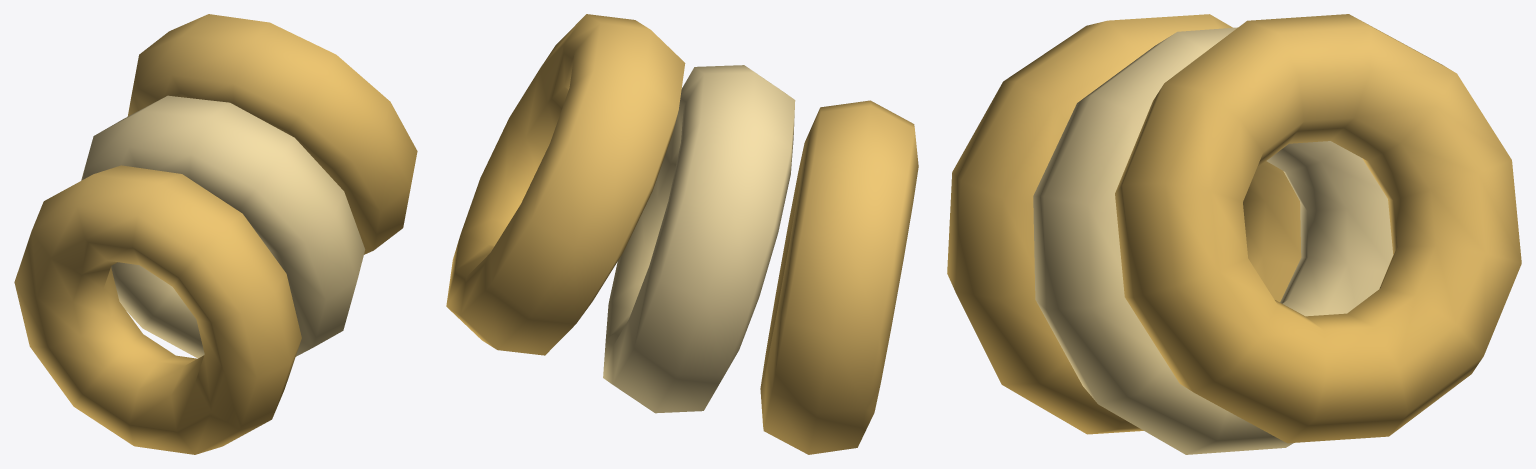
Rendered from Earring_8.fbx.
The picture shows the model from 3 angles, left to right: view 1: azimuth 30°, elevation 25°; view 2: azimuth 150°, elevation 25°; view 3: azimuth 270°, elevation 25°; orthographic projection. The views are drawn at different scales.
Parts seen in each view (by area): view 1: Earring_8; view 2: Earring_8; view 3: Earring_8.
Part boxes in pixels (box(x1,y1,x2,y2)): Earring_8: box(14, 14, 417, 454); Earring_8: box(446, 14, 918, 454); Earring_8: box(947, 14, 1521, 454).
Size of the model in its own units: 10.59 by 9.7 by 10.23.
